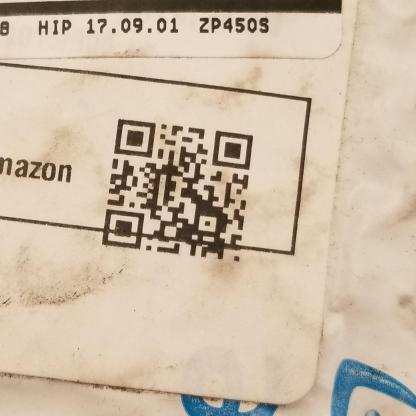qr: (99, 115, 256, 269)
